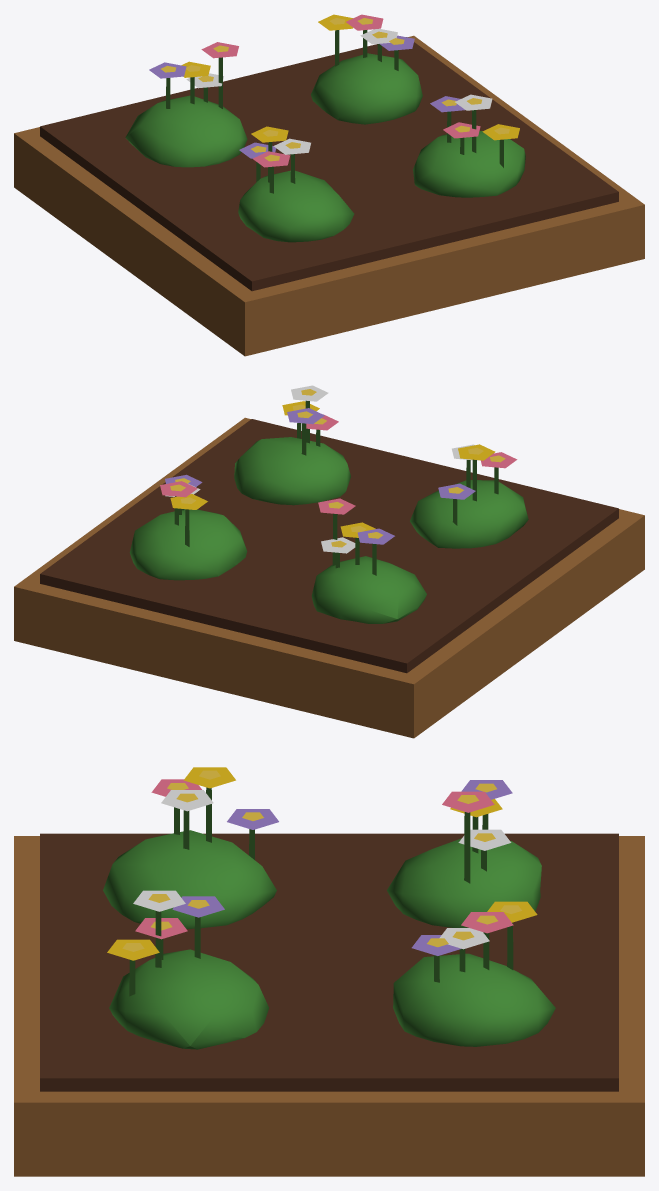
File: flower_bed.glb
3 renders of one model, top to bottom at view 1: azimuth 30°, elevation 25°; view 2: azimuth 150°, elevation 25°; view 3: azimuth 270°, elevation 25°, orthographic. The views are drawn at different scales.
Parts seen in each view (by area): view 1: decor-flower_bed; view 2: decor-flower_bed; view 3: decor-flower_bed.
Boxes of the visible parts, x1,y1,x2,y2 form: decor-flower_bed: (14, 14, 644, 356); decor-flower_bed: (14, 385, 644, 738); decor-flower_bed: (14, 767, 644, 1176).
Bounding box in the file's own units: 1.7 × 0.6131 × 1.7.
